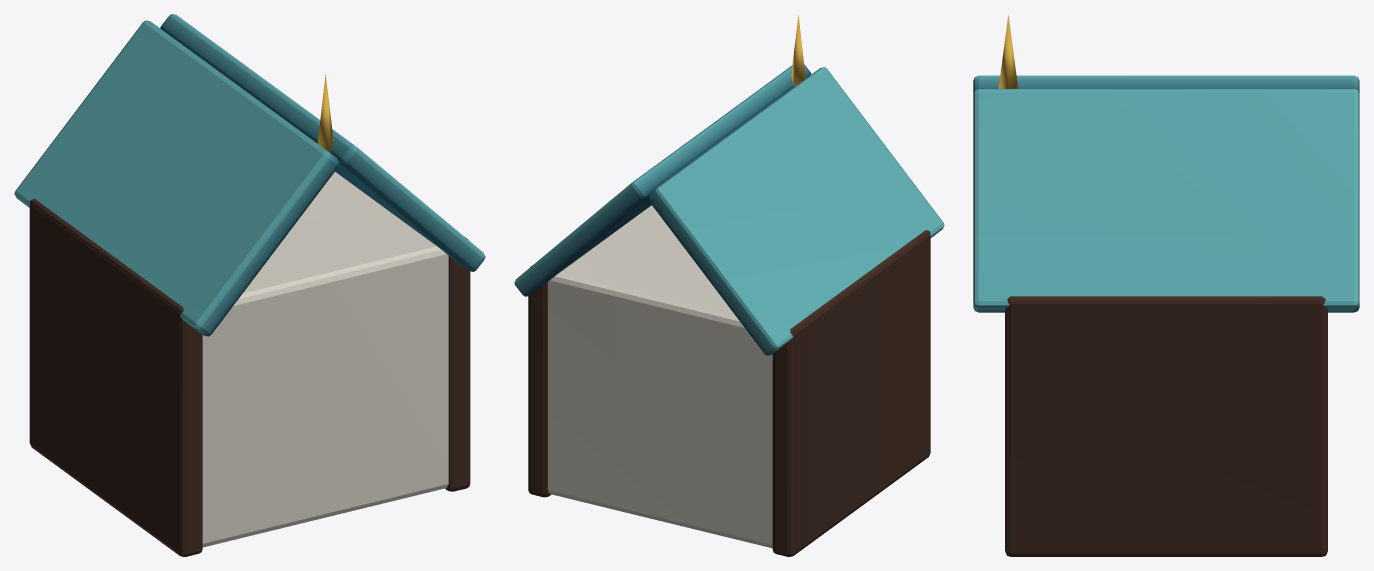
File: dormer.glb
The picture shows the model from 3 angles, left to right: view 1: azimuth 30°, elevation 25°; view 2: azimuth 150°, elevation 25°; view 3: azimuth 270°, elevation 25°; orthographic projection. The views are drawn at different scales.
Visible parts, largest first — view 1: Dormer; view 2: Dormer; view 3: Dormer.
Part boxes in pixels (x1,y1,x2,y2): Dormer: (14, 14, 485, 556); Dormer: (514, 14, 944, 556); Dormer: (973, 15, 1359, 556).
Size of the model in its own units: 1 by 1.48 by 1.1.
